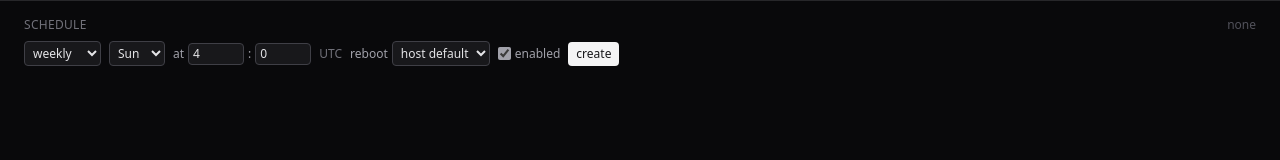
Test: Schedule › prompts for the admin key when none is stored
The width and height of the screenshot is (1280, 160).
Check: the text "none" is shown, box [1227,17,1256,33]
Click the button "create" at point(594, 54), box [568,42,620,66]
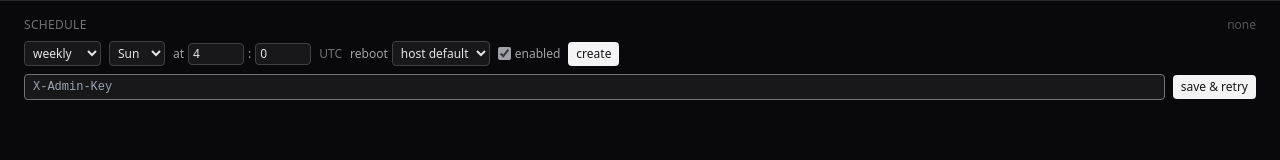
Check: the password field with placeholder "X-Admin-Key" is shown, box [24,74,1165,100]
